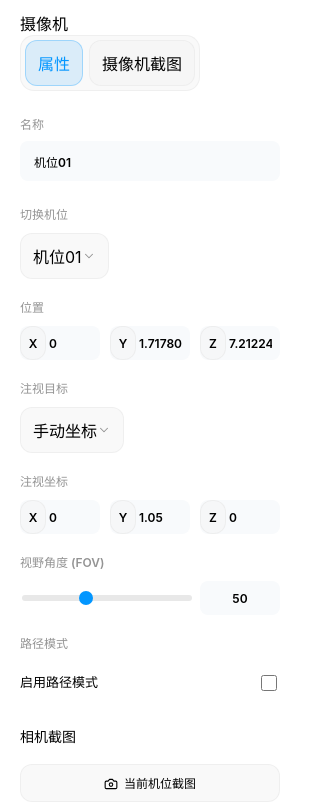
it: lists visible viewport models as camera focus targets and centers on the selected model
Click the button named "注视目标模式". click: (72, 430)
box: [20,407,124,453]
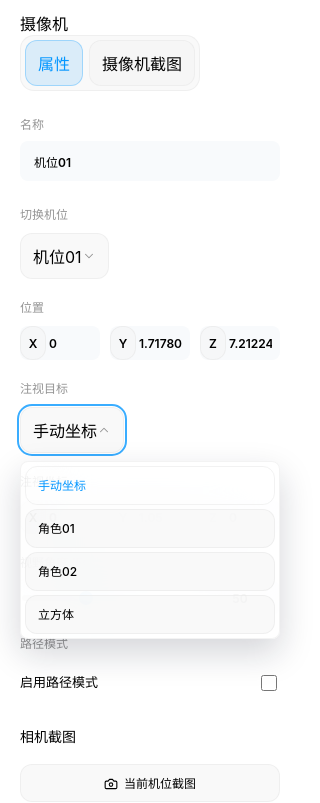
Expected: the options read "手动坐标", "角色01", "角色02", "立方体", in this order
Click the option "角色02". click: (150, 572)
box: [25,552,275,591]
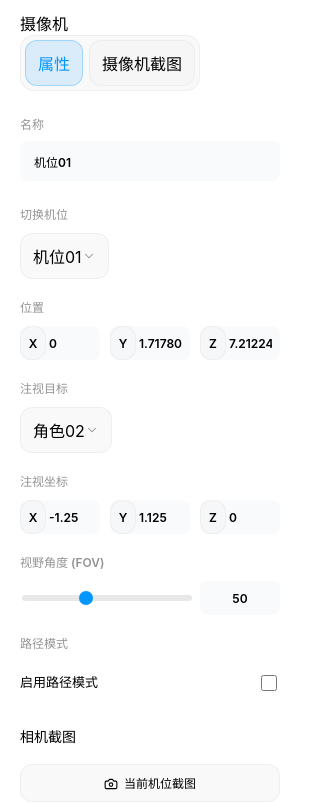
Expected: the button named "注视目标模式" reads "角色02", [20,407,112,453]
Expected: the number field named "注视坐标 X" holds "-1.25", [43,500,100,534]
Expected: the number field named "注视坐标 Y" holds "1.125", [133,500,190,534]
